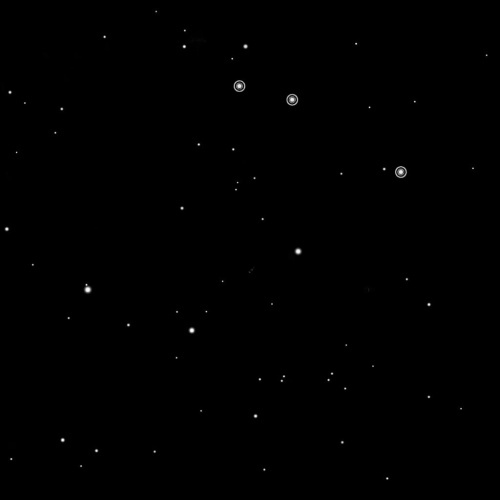vulpecula: (229, 75, 409, 181)
